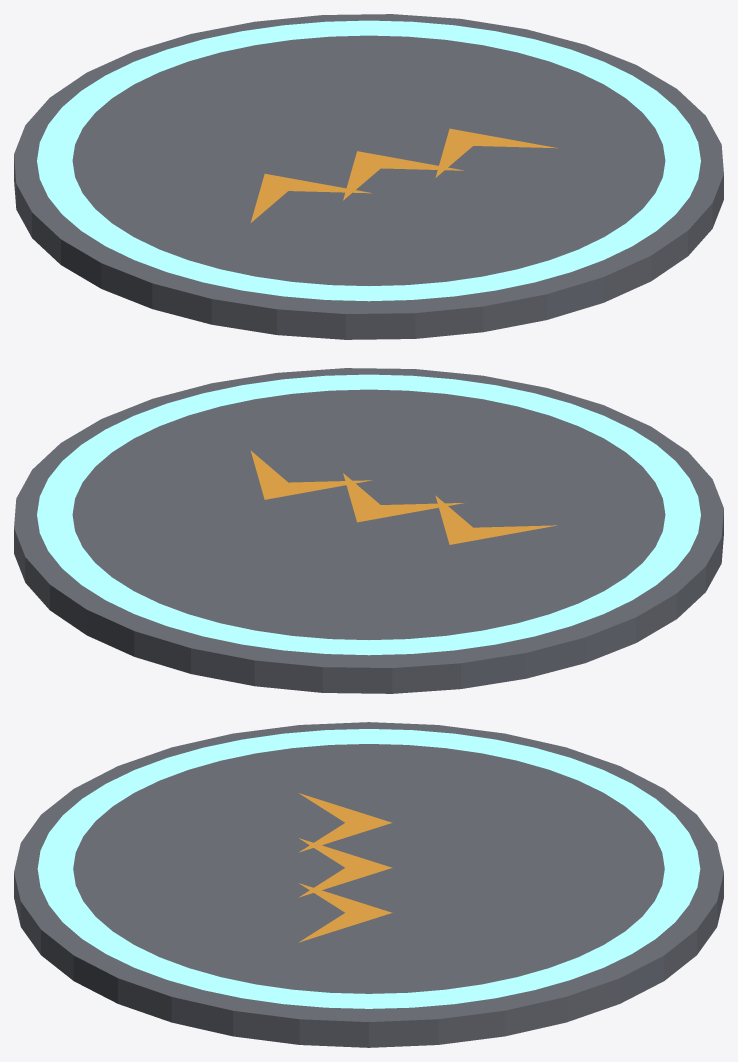
Rendered from zip_pad.glb.
The picture shows the model from 3 angles, top to bottom: view 1: azimuth 30°, elevation 25°; view 2: azimuth 150°, elevation 25°; view 3: azimuth 270°, elevation 25°; orthographic projection.
Visible parts, largest first — view 1: Disc, Ring, Chevrons; view 2: Disc, Ring, Chevrons; view 3: Disc, Ring, Chevrons.
Part boxes in pixels (<box>): Disc: <box>14,14,723,339</box>; Ring: <box>37,20,700,301</box>; Chevrons: <box>250,128,557,222</box>; Disc: <box>14,368,723,693</box>; Ring: <box>37,374,700,655</box>; Chevrons: <box>250,450,557,544</box>; Disc: <box>14,722,723,1047</box>; Ring: <box>37,729,700,1008</box>; Chevrons: <box>299,793,392,942</box>.
Size of the model in its own units: 3 by 0.14 by 3.
